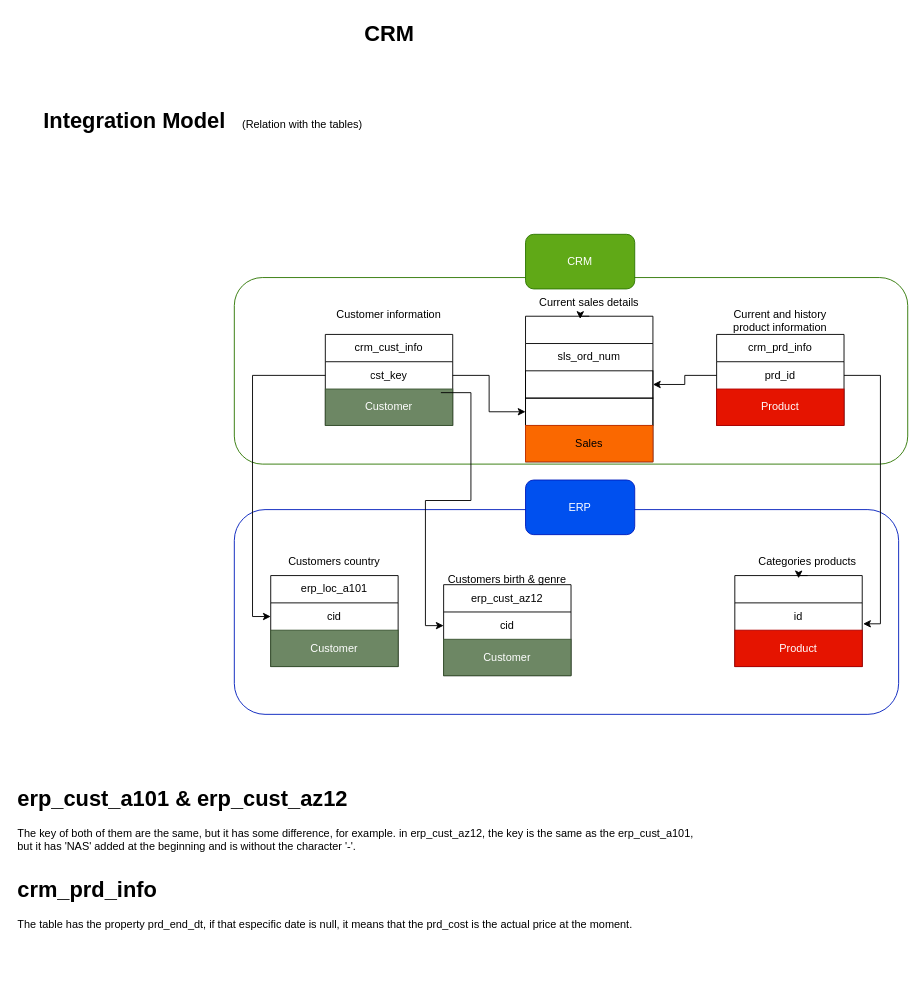
The diagram is 924 pixels wide and 998 high, and some of its shapes have lost their labels. Here are the shapes that lost their labels. From the top down, the box of each, then its label:
(525, 370, 653, 398): sls_prd_key
(525, 315, 653, 462): crm_sales_details
(525, 397, 653, 425): sls_cust_id
(734, 575, 862, 667): erp_px_cat_g1v2
